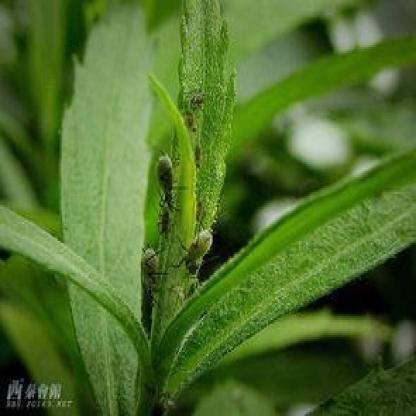aphid: (180, 217, 213, 283), (153, 150, 186, 212), (137, 240, 166, 304), (154, 202, 174, 242)
